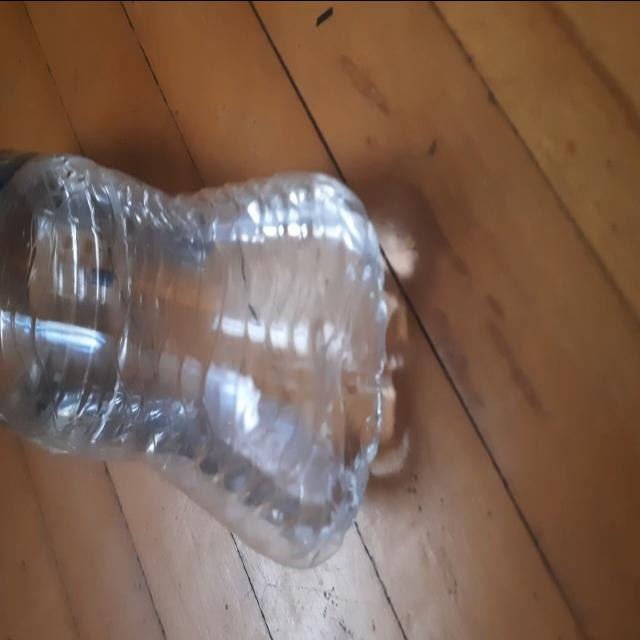Plastic: (0, 149, 408, 570)
